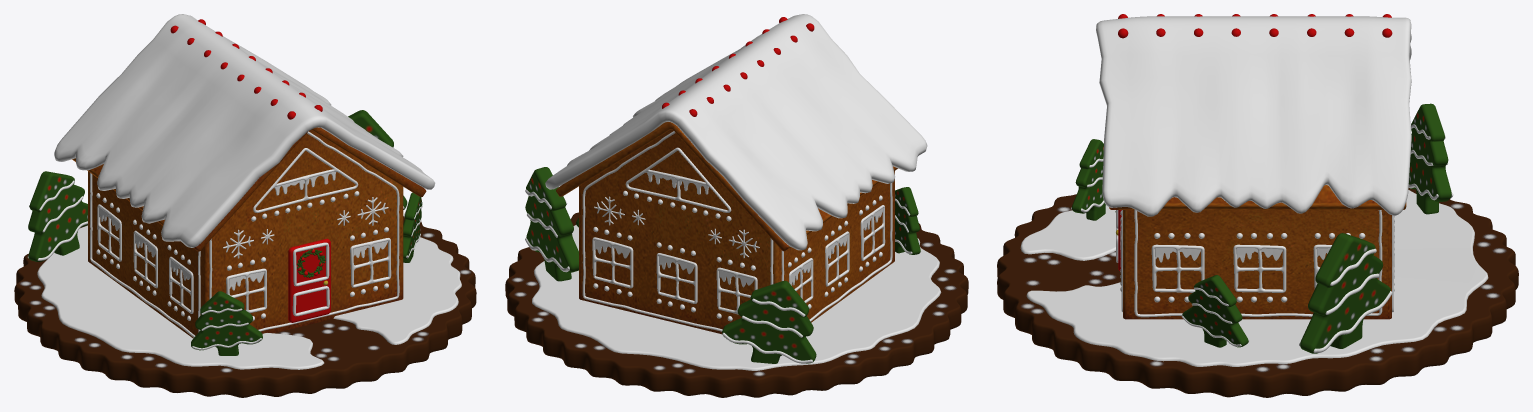
File: Gingerbread cottage.fbx
3 views of the same model, side by side, from view 1: azimuth 30°, elevation 25°; view 2: azimuth 150°, elevation 25°; view 3: azimuth 270°, elevation 25° (orthographic). The views are drawn at different scales.
Parts seen in each view (by area): view 1: Plane.001, Plane, Circle, Vert.004, Plane.004, Vert.001, Plane.005, Cube, Vert.008, Plane.002, Vert.002, Plane.006 (+7 smaller); view 2: Plane.001, Plane, Circle, Vert.004, Plane.004, Vert.001, Plane.007, Plane.002, Vert.008, Vert.002, Plane.005, Roundcube.004 (+3 smaller); view 3: Plane.001, Vert.004, Circle, Plane, Plane.007, Plane.004, Vert.001, Plane.006, Plane.005, Plane.002, Vert.008, Roundcube.002 (+1 smaller).
Boxes of the visible parts, x1,y1,x2,y2 form: Plane.001: (54,14,435,247); Plane: (88,130,403,338); Circle: (14,216,476,397); Vert.004: (37,225,461,369); Plane.004: (27,171,87,261); Vert.001: (97,204,391,313); Plane.005: (191,291,262,355); Cube: (288,238,330,322); Vert.008: (90,131,399,337); Plane.002: (72,127,426,251); Vert.002: (253,148,358,212); Plane.006: (403,192,422,262); Plane.001: (545,14,927,250); Plane: (579,129,894,334); Circle: (505,212,968,397); Vert.004: (532,225,941,370); Plane.004: (722,281,816,363); Vert.001: (592,205,885,314); Plane.007: (525,167,578,281); Plane.002: (556,122,897,251); Vert.008: (582,131,892,331); Vert.002: (625,147,731,212); Plane.005: (895,187,920,254); Roundcube.004: (593,190,755,321); Plane.001: (1096,16,1411,216); Vert.004: (1020,190,1488,366); Circle: (997,188,1518,397); Plane: (1123,210,1391,319); Plane.007: (1299,233,1392,353); Plane.004: (1408,103,1453,214); Vert.001: (1120,216,1394,292); Plane.006: (1181,275,1249,347); Plane.005: (1071,139,1105,220); Plane.002: (1109,185,1406,209); Vert.008: (1121,210,1393,317); Roundcube.002: (1118,14,1392,38).
Bounding box in the file's own units: 403 × 230 × 402.
